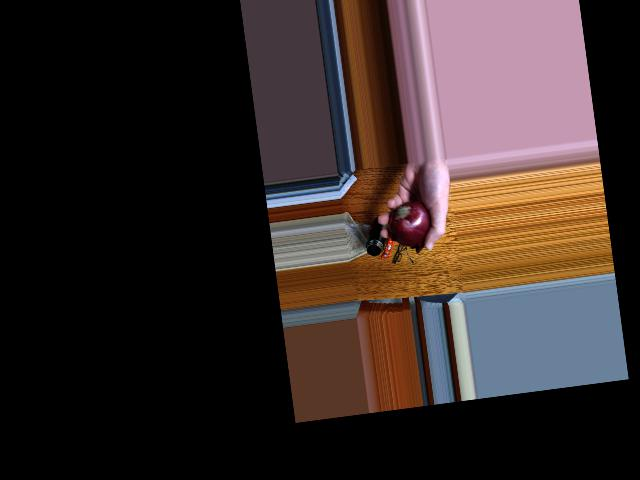onion: (387, 201, 432, 247)
